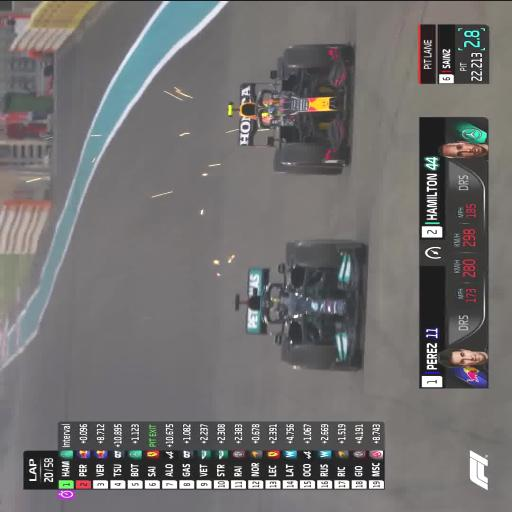f1_car: (235, 239, 366, 371), (229, 43, 353, 174)
